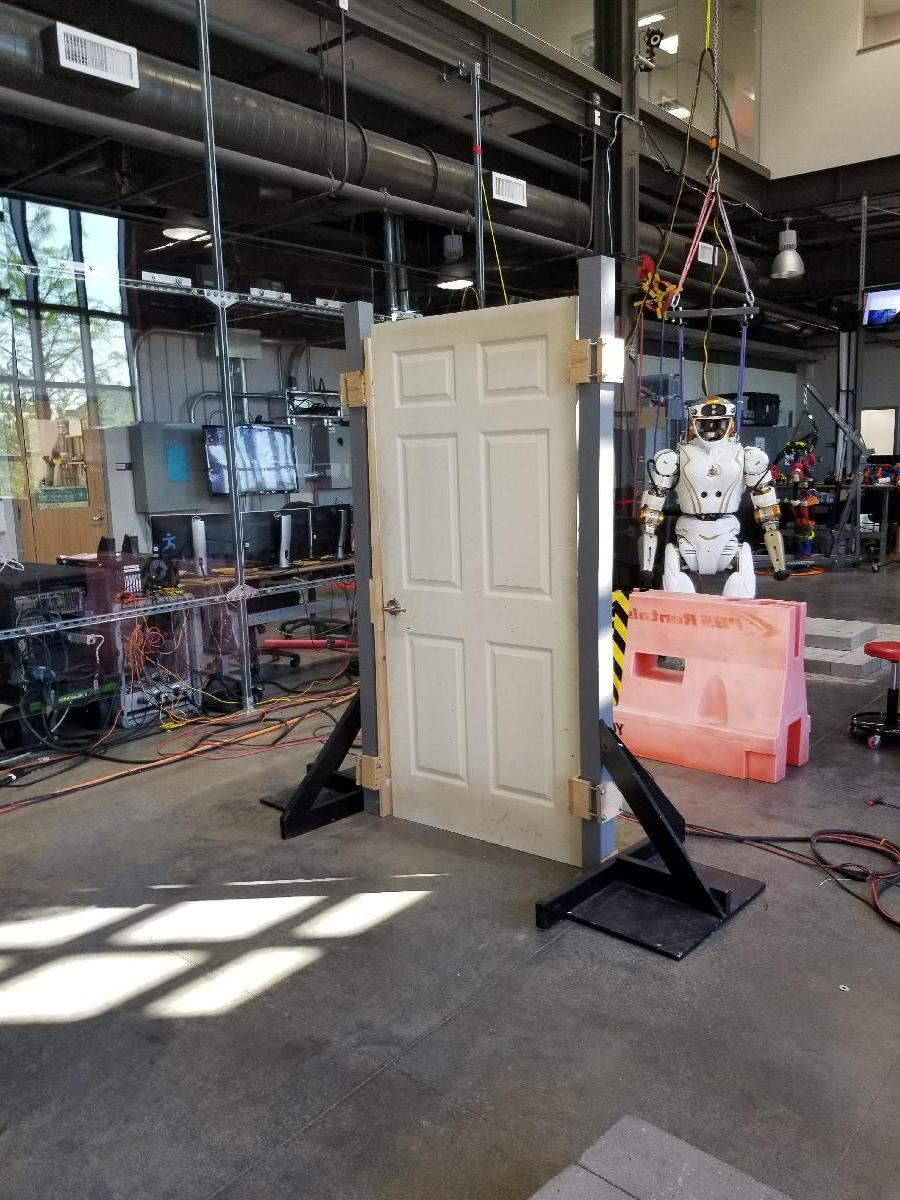door: (386, 288, 574, 851)
handle: (381, 595, 407, 617)
